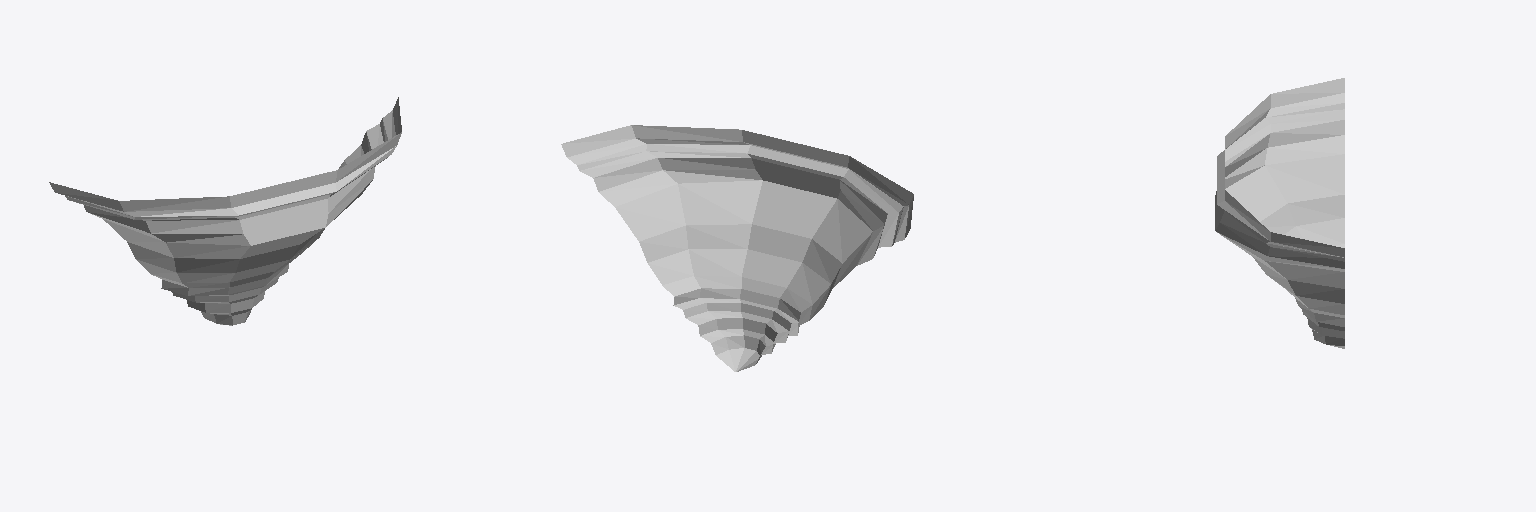
File: wall_light.obj
3 views of the same model, side by side, from view 1: azimuth 30°, elevation 25°; view 2: azimuth 150°, elevation 25°; view 3: azimuth 270°, elevation 25° (orthographic).
Visible parts, largest first — view 1: pSphere1; view 2: pSphere1; view 3: pSphere1.
Part boxes in pixels (x1,y1,x2,y2): pSphere1: (49, 97, 401, 325); pSphere1: (561, 125, 913, 371); pSphere1: (1215, 78, 1344, 348).
Size of the model in its own units: 3.95 by 2.01 by 1.26.